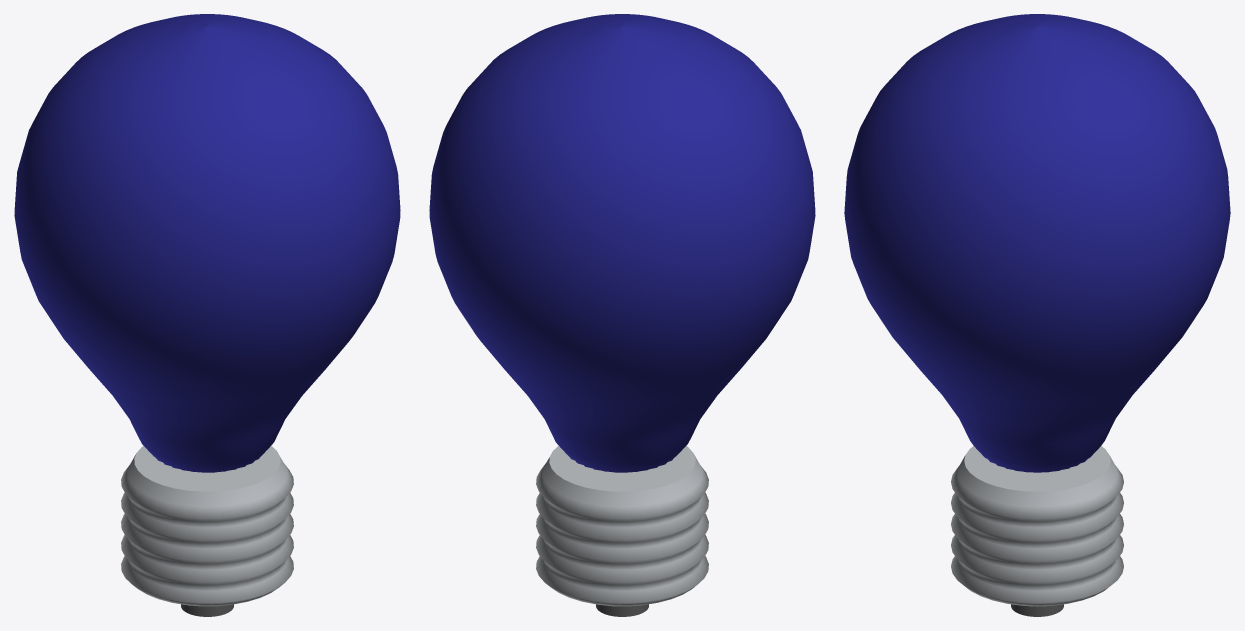
Rendered from UVBulb-v1.fbx.
3 renders of one model, left to right at view 1: azimuth 30°, elevation 25°; view 2: azimuth 150°, elevation 25°; view 3: azimuth 270°, elevation 25°, orthographic.
Visible parts, largest first — view 1: PN_UVBulb_Source; view 2: PN_UVBulb_Source; view 3: PN_UVBulb_Source.
Part boxes in pixels (left/top/right/bottom): PN_UVBulb_Source: left=14, top=14, right=400, bottom=616; PN_UVBulb_Source: left=429, top=14, right=815, bottom=616; PN_UVBulb_Source: left=844, top=14, right=1230, bottom=616.
Size of the model in its own units: 5.8 by 9.59 by 5.8.
Materials: 1 (1 with a texture image).
